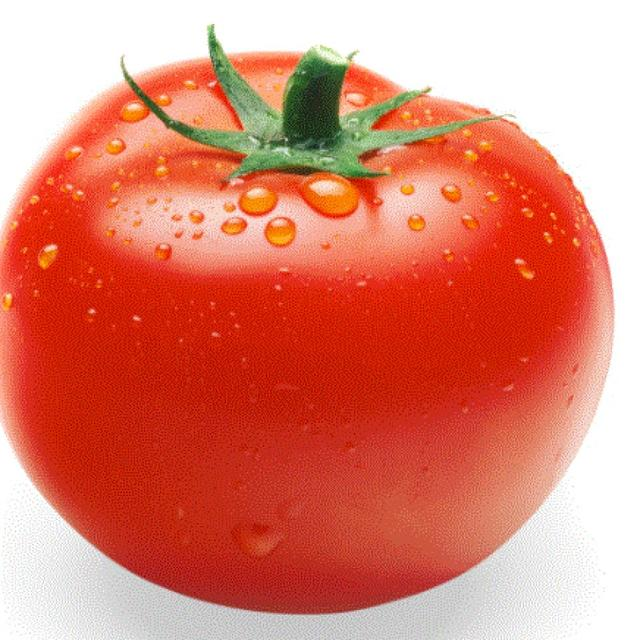Healthy Fruit: (4, 35, 425, 412)
